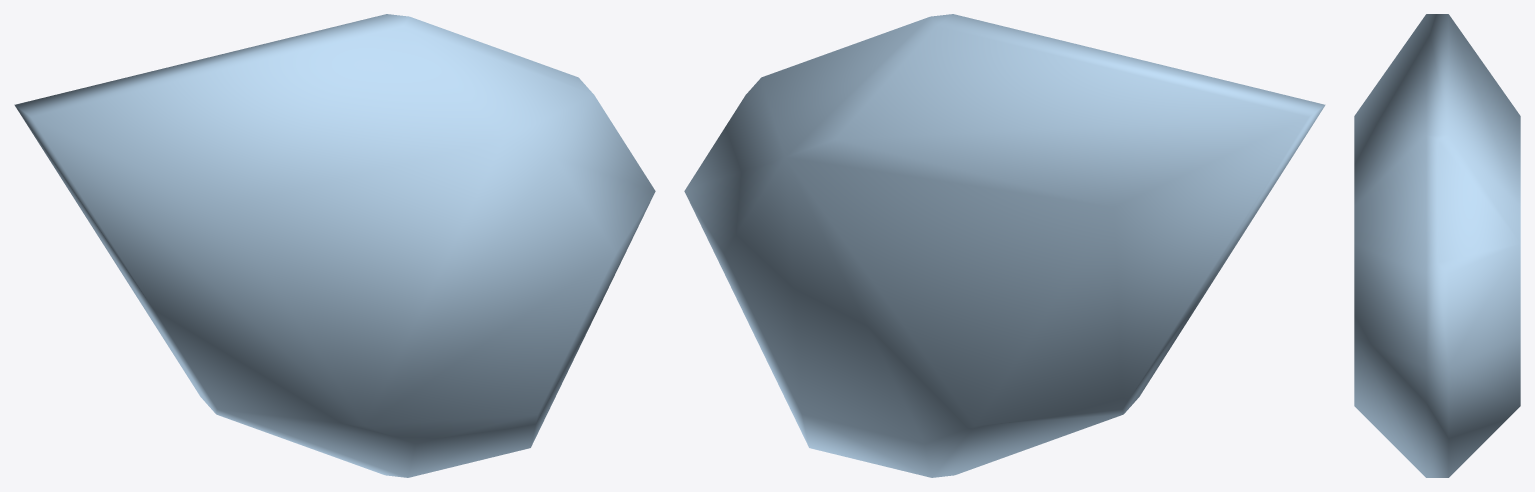
File: apatite.glb
The picture shows the model from 3 angles, left to right: view 1: azimuth 30°, elevation 25°; view 2: azimuth 150°, elevation 25°; view 3: azimuth 270°, elevation 25°; orthographic projection. The views are drawn at different scales.
Parts seen in each view (by area): view 1: apatite; view 2: apatite; view 3: apatite.
Part boxes in pixels (box(x1,y1,x2,y2)): apatite: box(14, 14, 655, 477); apatite: box(684, 14, 1325, 477); apatite: box(1354, 14, 1520, 477).
Bounding box in the file's own units: 2.89 × 2 × 1.
